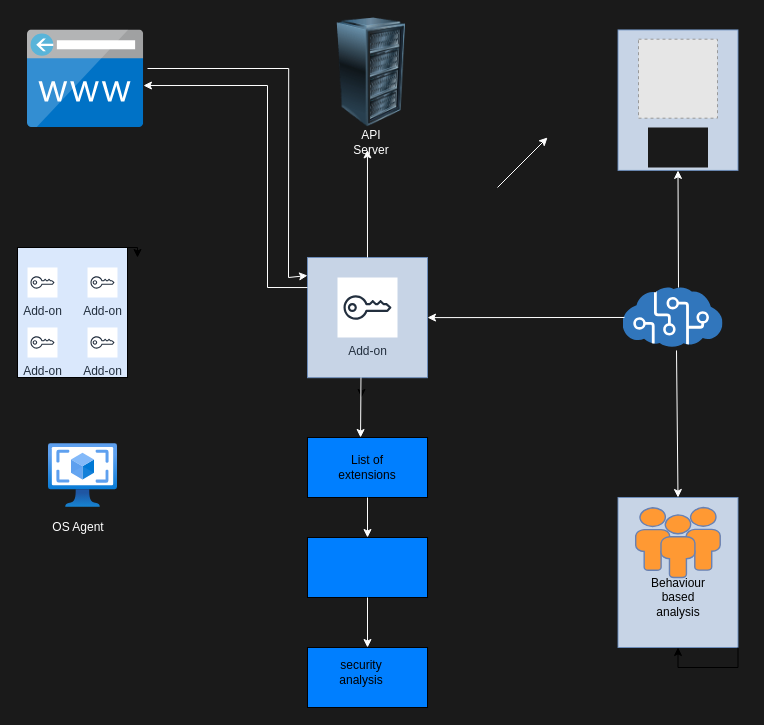
Image size: 764x725. Some labels were removed from this diagram. Grey dashed boxes stand in for pictures. Each missing label, with the box of its shape:
AI: (622, 287, 722, 347)
malicious pattern detection: (648, 127, 708, 167)
Update tracker: (306, 536, 428, 598)
